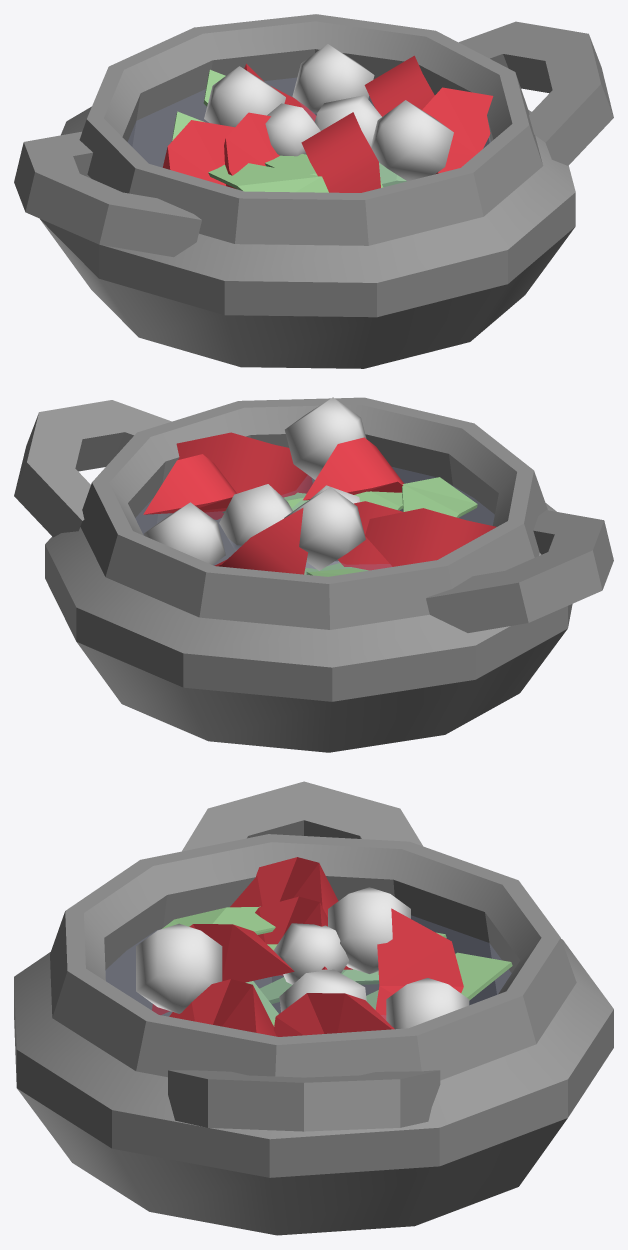
The model's file is Teller_Suppe.FBX.
3 views of the same model, one above another, from view 1: azimuth 30°, elevation 25°; view 2: azimuth 150°, elevation 25°; view 3: azimuth 270°, elevation 25° (orthographic). The views are drawn at different scales.
Visible parts, largest first — view 1: Suppe; view 2: Suppe; view 3: Suppe.
Boxes of the visible parts, x1,y1,x2,y2 form: Suppe: (14, 14, 613, 368); Suppe: (14, 397, 613, 752); Suppe: (14, 781, 613, 1235).
Bounding box in the file's own units: 20.69 × 6.94 × 16.53.
